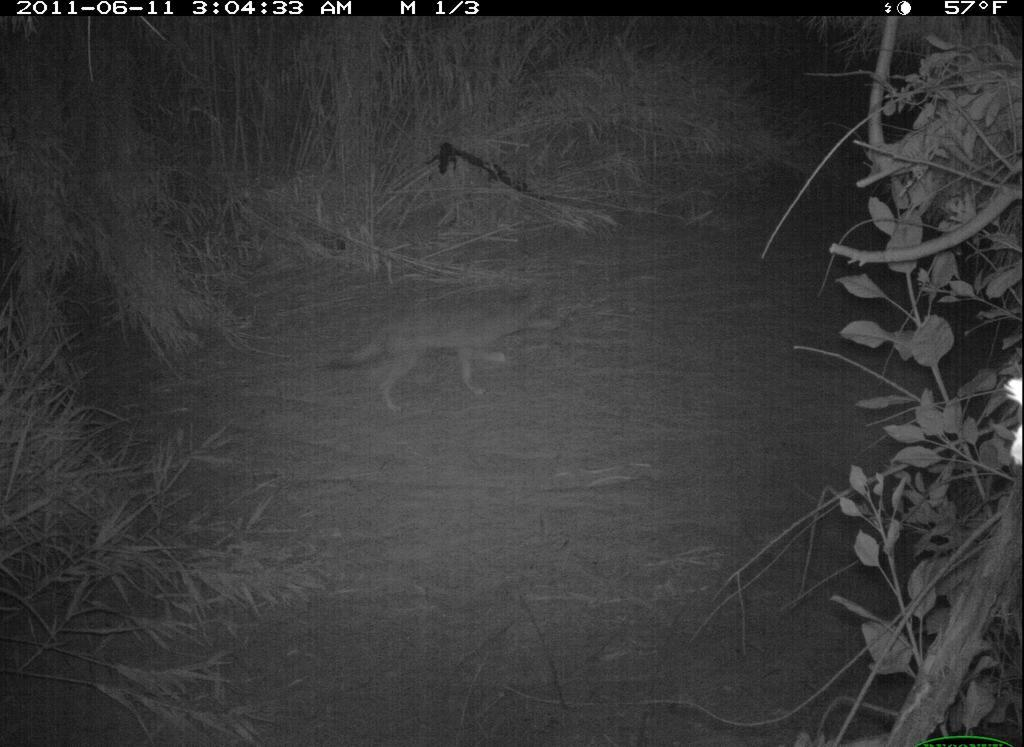coyote: (318, 278, 565, 419)
